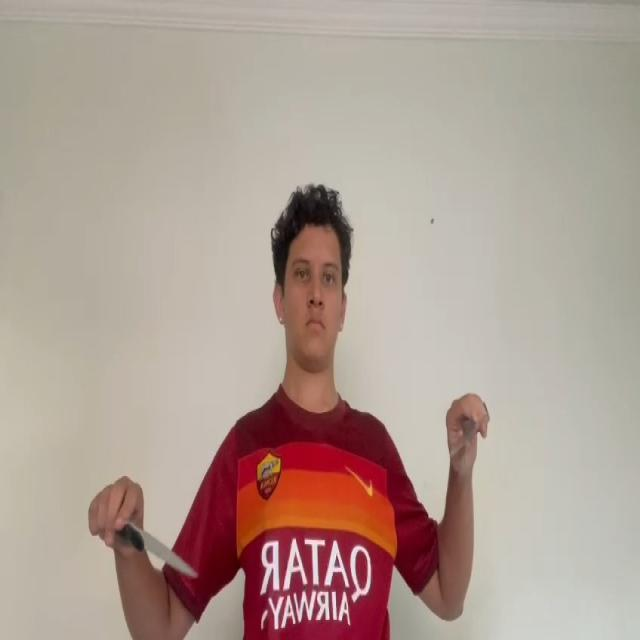knife: (130, 524, 197, 577)
